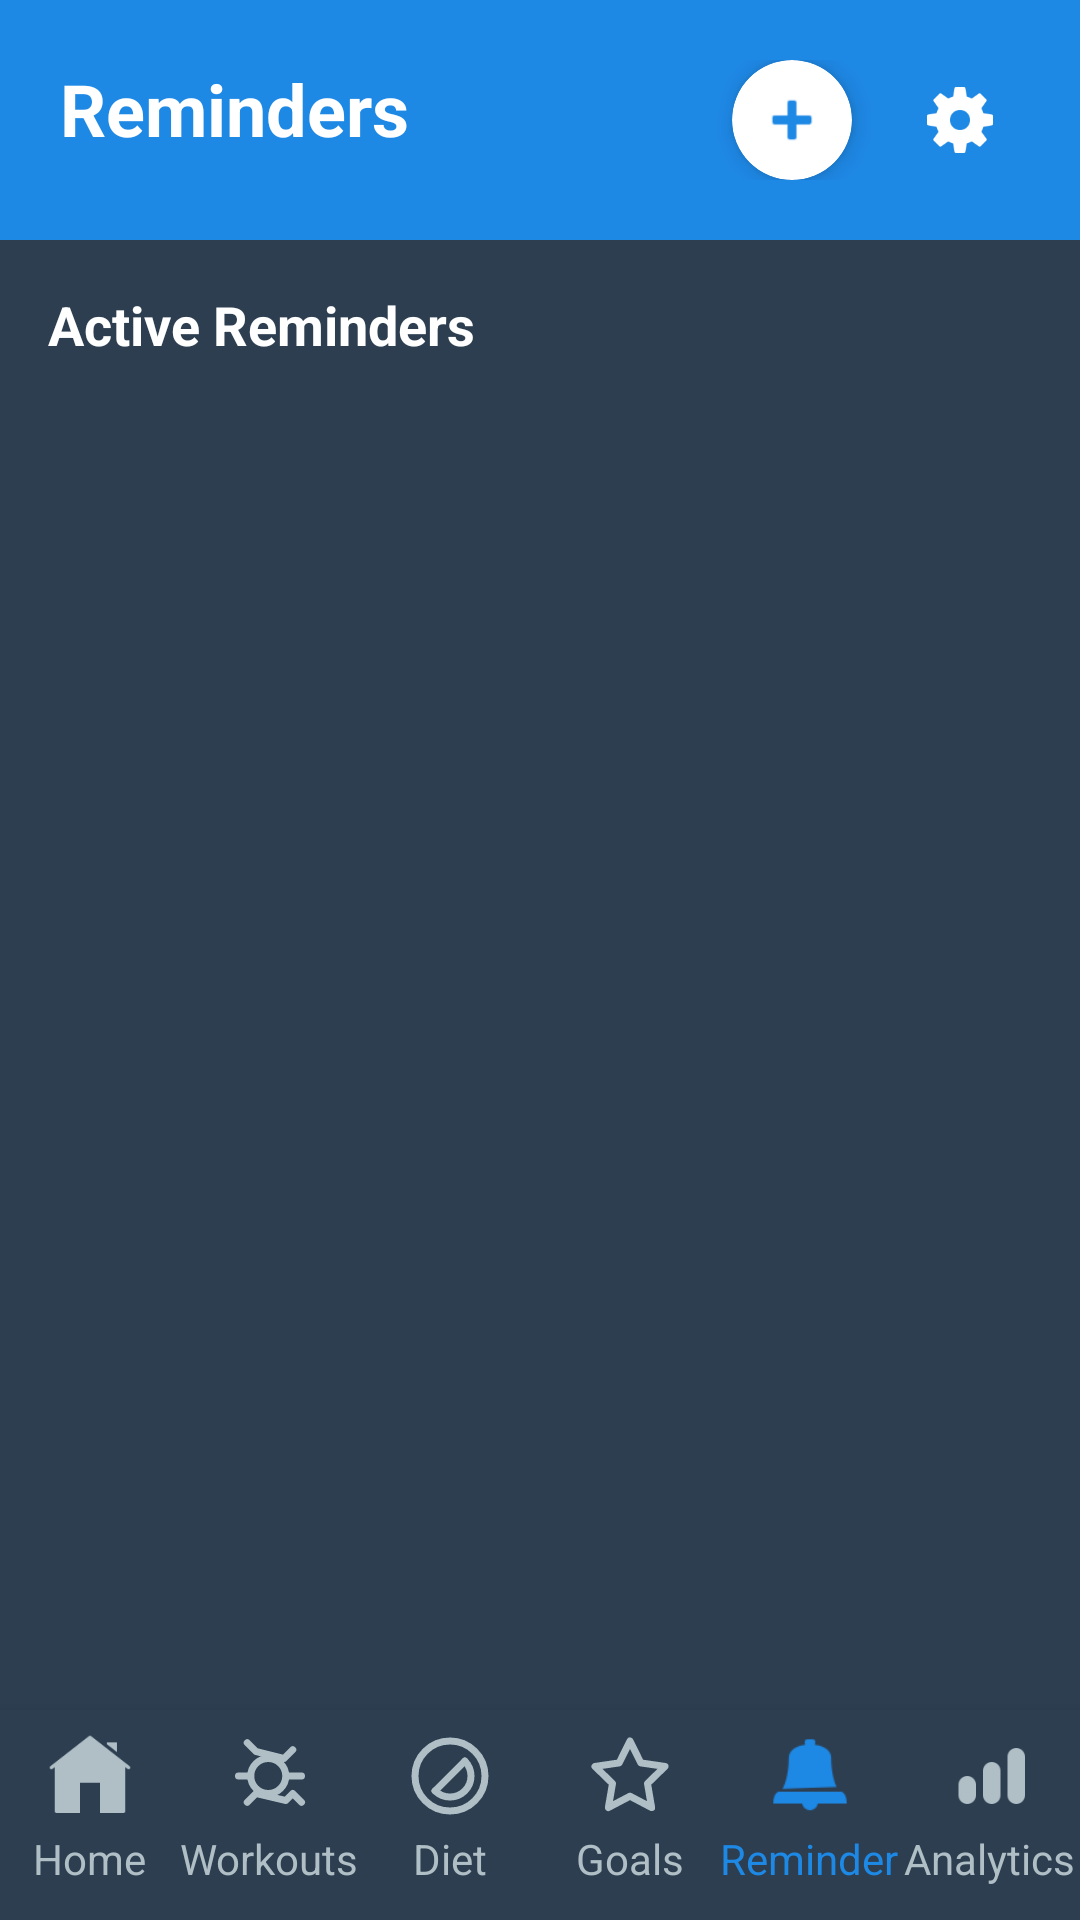

Icon click points for this 1080*1920 phone screenshot, format (x=x, y=y):
add: (x=792, y=120)
settings: (x=960, y=120)
